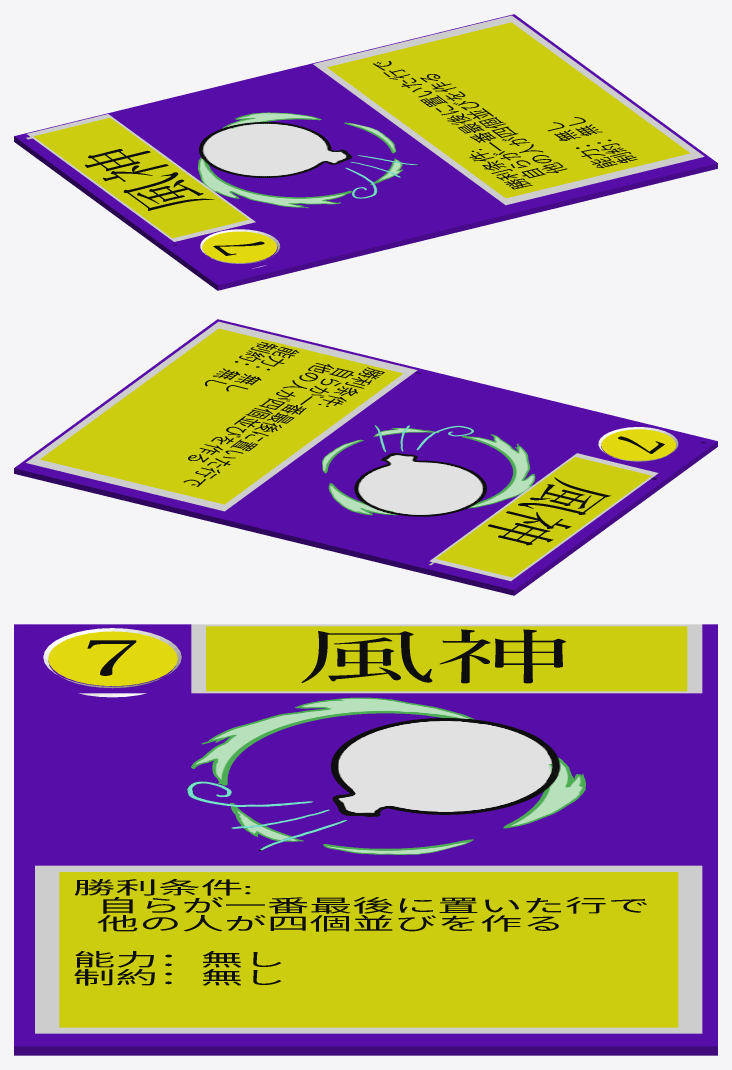
The model's file is 風神紫.fbx.
3 renders of one model, top to bottom at view 1: azimuth 30°, elevation 25°; view 2: azimuth 150°, elevation 25°; view 3: azimuth 270°, elevation 25°, orthographic. The views are drawn at different scales.
Parts seen in each view (by area): view 1: カード本体.001, 説明欄, 名前欄, 平面.001, 説明文, 円, 平面, 名前; view 2: カード本体.001, 説明欄, 名前欄, 平面.001, 説明文, 円, 平面, 名前; view 3: カード本体.001, 説明欄, 名前欄, 平面.001, 説明文, 円, 平面, 名前, コスト蘭.
Part boxes in pixels (left/top/right/bottom): カード本体.001: left=14, top=14, right=717, bottom=290; 説明欄: left=313, top=15, right=704, bottom=205; 名前欄: left=27, top=114, right=255, bottom=241; 平面.001: left=198, top=112, right=418, bottom=208; 説明文: left=373, top=61, right=637, bottom=189; 円: left=202, top=231, right=276, bottom=262; 平面: left=174, top=222, right=302, bottom=275; 名前: left=85, top=149, right=214, bottom=210; カード本体.001: left=14, top=319, right=717, bottom=595; 説明欄: left=26, top=321, right=417, bottom=511; 名前欄: left=429, top=453, right=658, bottom=581; 平面.001: left=322, top=425, right=535, bottom=516; 説明文: left=183, top=342, right=384, bottom=486; 円: left=601, top=429, right=675, bottom=460; 平面: left=577, top=419, right=704, bottom=472; 名前: left=488, top=477, right=610, bottom=545; カード本体.001: left=14, top=624, right=717, bottom=1055; 説明欄: left=35, top=865, right=702, bottom=1033; 名前欄: left=191, top=624, right=702, bottom=693; 平面.001: left=187, top=697, right=585, bottom=854; 説明文: left=74, top=879, right=646, bottom=985; 円: left=48, top=631, right=177, bottom=686; 平面: left=30, top=624, right=191, bottom=693; 名前: left=301, top=629, right=565, bottom=683; コスト蘭: left=43, top=628, right=181, bottom=697.
Bounding box in the file's own units: 281 × 6.07 × 198.
